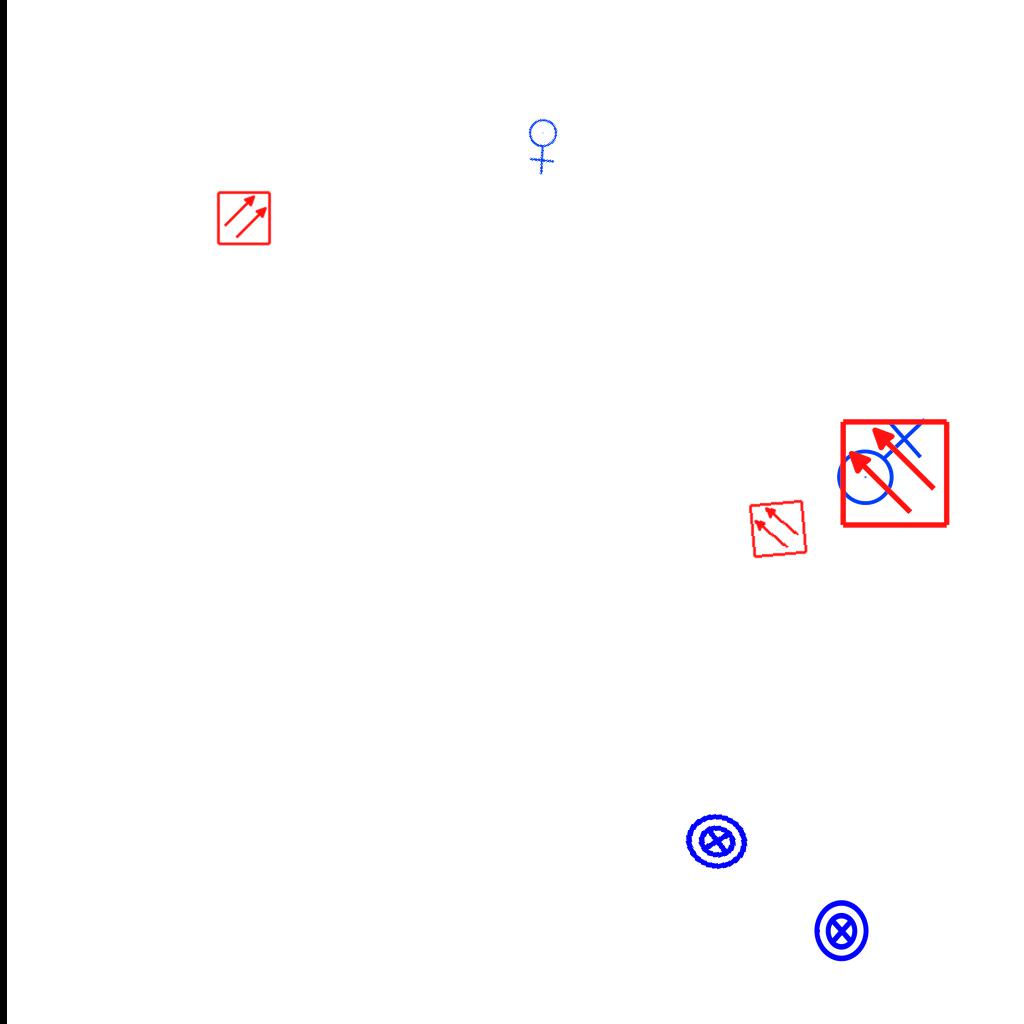Elektroanschluss_allgemein_230V_Geraeteanschlussdose_230V: (828, 413, 927, 507), (510, 109, 579, 178)
RMO_Rauchmelder_optischer: (838, 417, 951, 530), (747, 498, 809, 560), (216, 190, 272, 246)
Taster_beleuchtet: (678, 802, 756, 880), (809, 898, 875, 964)
